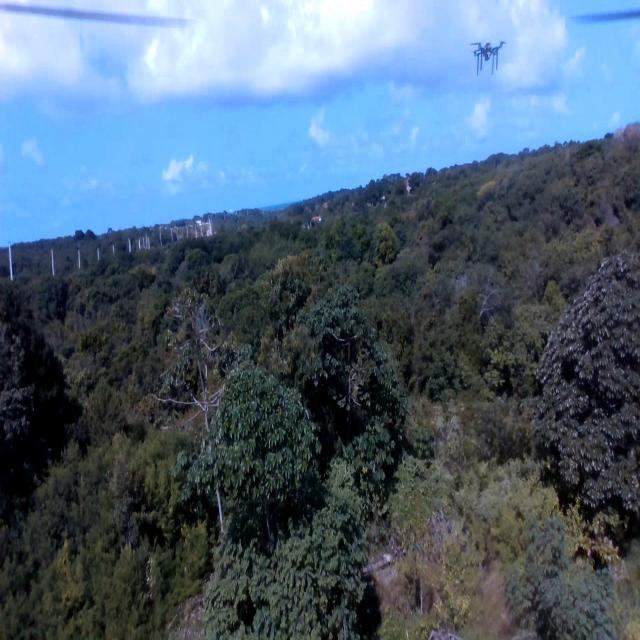-uav-: (462, 30, 512, 80)
